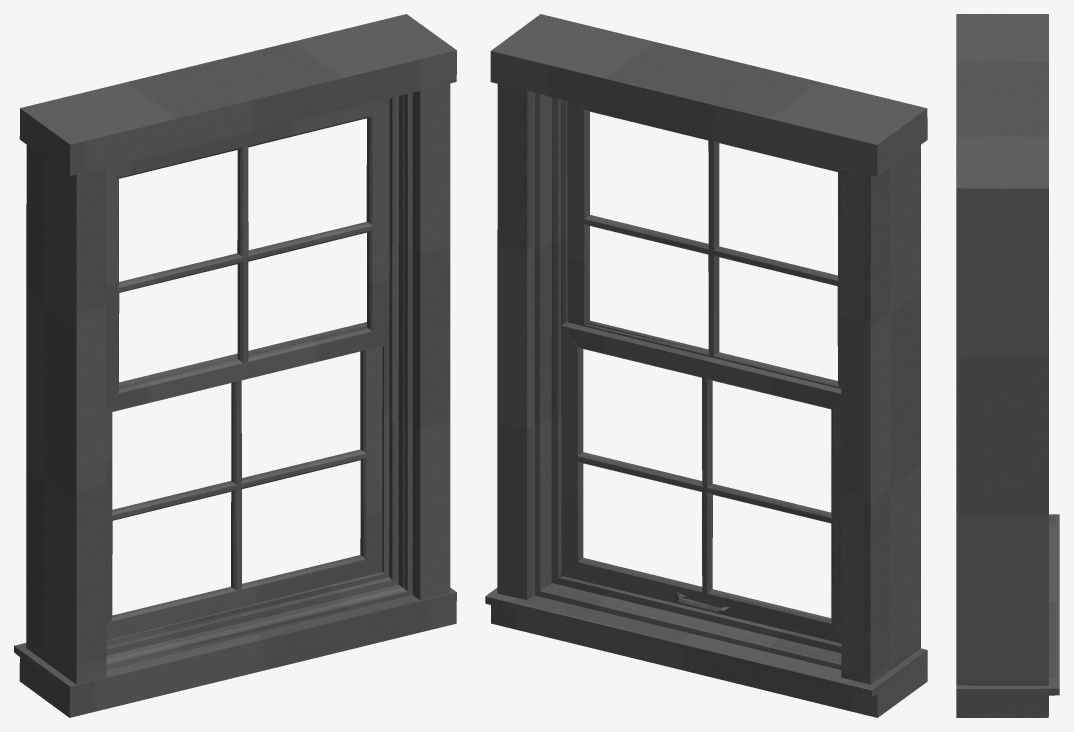
Rendered from SM_BigHouse_Window_A_2.glb.
3 renders of one model, left to right at view 1: azimuth 30°, elevation 25°; view 2: azimuth 150°, elevation 25°; view 3: azimuth 270°, elevation 25°, orthographic. The views are drawn at different scales.
Parts seen in each view (by area): view 1: SM_BigHouse_Window_A_2; view 2: SM_BigHouse_Window_A_2; view 3: SM_BigHouse_Window_A_2.
Part boxes in pixels (box(x1,y1,x2,y2)): SM_BigHouse_Window_A_2: box(14, 14, 456, 717); SM_BigHouse_Window_A_2: box(485, 14, 927, 717); SM_BigHouse_Window_A_2: box(956, 14, 1059, 717).
Size of the model in its own units: 116 by 164 by 29.07.
1 material, 1 textured.
